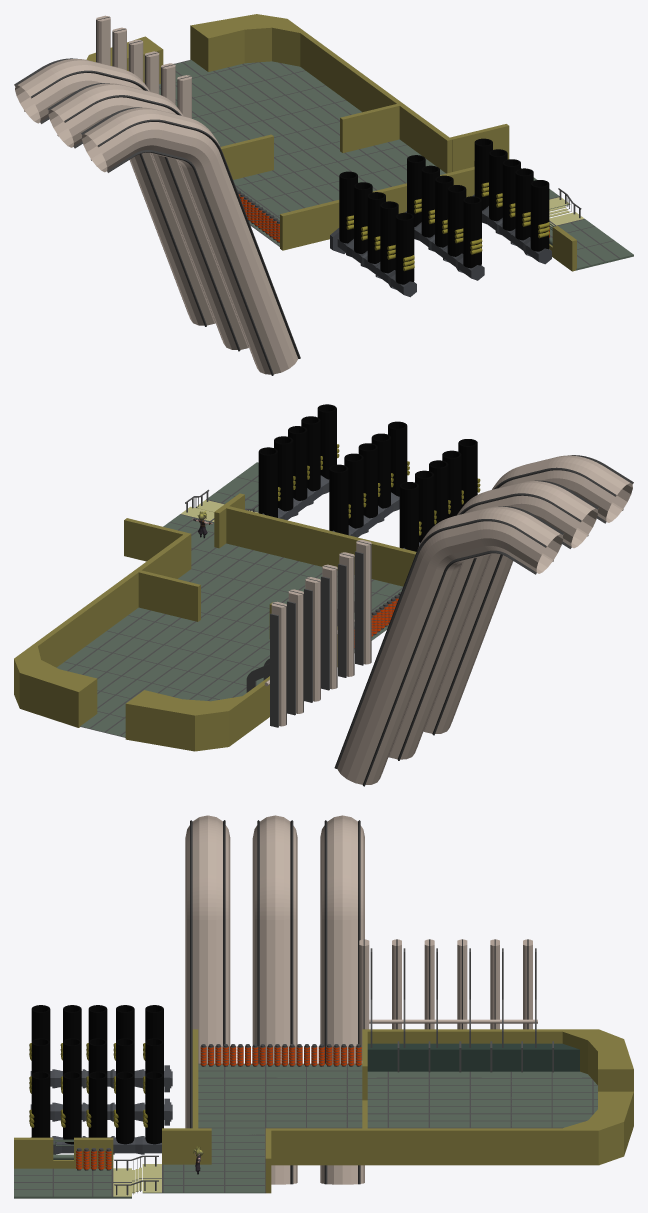
Rendered from Leo_Sala_de_maquinas_Godoi_Review_06.fbx.
3 views of the same model, one above another, from view 1: azimuth 30°, elevation 25°; view 2: azimuth 150°, elevation 25°; view 3: azimuth 270°, elevation 25° (orthographic). The views are drawn at different scales.
Visible parts, largest first — view 1: Cylinder.008, Cube.003, Cylinder.003, Parede.005, Parede.003, Cube.004, Parede.001, Cube, Parede.002, Cylinder.001, Parede; view 2: Cylinder.008, Cube.003, Cylinder.003, Parede.005, Parede.001, Cube.004, Cube.002, Parede.003, Cube.001, Cube, Cylinder.001; view 3: Cylinder.008, Cube.003, Parede.005, Cylinder.003, Cube.005, Cube.004, Parede.003, Cube.001, Cube, Cylinder.001, Parede.001, Parede (+4 smaller).
Boxes of the visible parts, x1,y1,x2,y2 form: Cylinder.008: (14, 58, 300, 375); Cube.003: (159, 60, 445, 246); Cylinder.003: (330, 138, 551, 297); Parede.005: (86, 14, 401, 112); Parede.003: (340, 102, 509, 173); Cube.004: (96, 15, 191, 118); Parede.001: (280, 160, 474, 250); Cube: (549, 212, 633, 270); Parede.002: (220, 134, 273, 179); Cylinder.001: (236, 188, 279, 242); Parede: (549, 226, 576, 271); Cylinder.008: (334, 455, 633, 786); Cube.003: (56, 543, 402, 737); Cylinder.003: (258, 404, 480, 551); Parede.005: (14, 571, 269, 751); Parede.001: (214, 493, 416, 586); Cube.004: (271, 540, 371, 726); Cube.002: (246, 551, 363, 727); Parede.003: (124, 518, 200, 621); Cube.001: (163, 506, 214, 564); Cube: (196, 462, 258, 513); Cylinder.001: (354, 592, 401, 648); Cylinder.008: (185, 815, 364, 1184); Cube.003: (198, 1063, 597, 1193); Parede.005: (367, 1029, 633, 1165); Cylinder.003: (29, 1005, 172, 1154); Cube.005: (367, 1041, 579, 1072); Cube.004: (359, 939, 532, 1060); Parede.003: (265, 1100, 367, 1193); Cube.001: (142, 1164, 264, 1193); Cube: (14, 1168, 131, 1198); Cylinder.001: (200, 1044, 361, 1066); Parede.001: (162, 1029, 211, 1164); Parede: (14, 1137, 113, 1168).
Bounding box in the file's own units: 10569 × 6552 × 12498.
